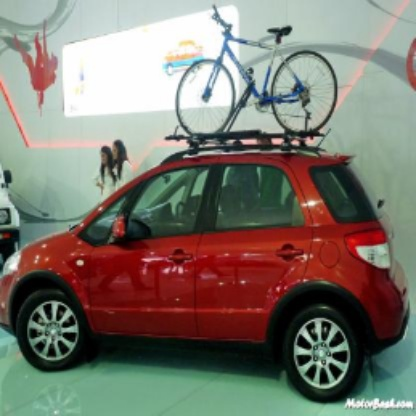Vehicle: (1, 128, 413, 403)
